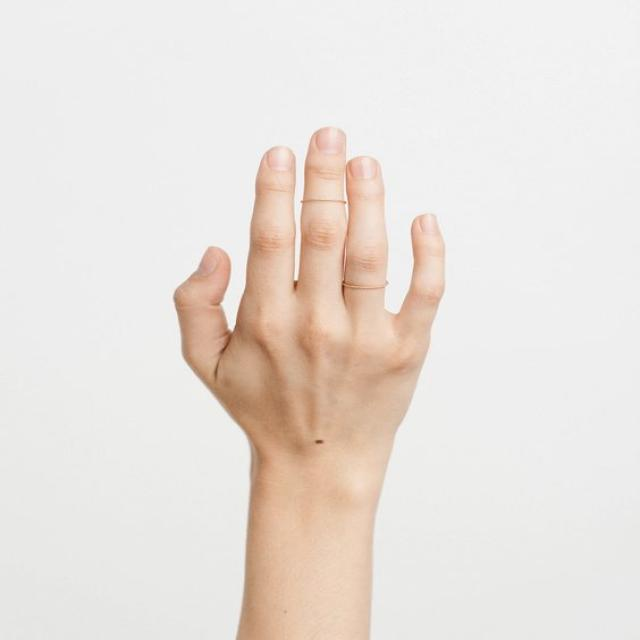Fingernail: (267, 146, 293, 174), (317, 128, 345, 154), (195, 248, 218, 278), (349, 158, 376, 180), (420, 214, 439, 234)
